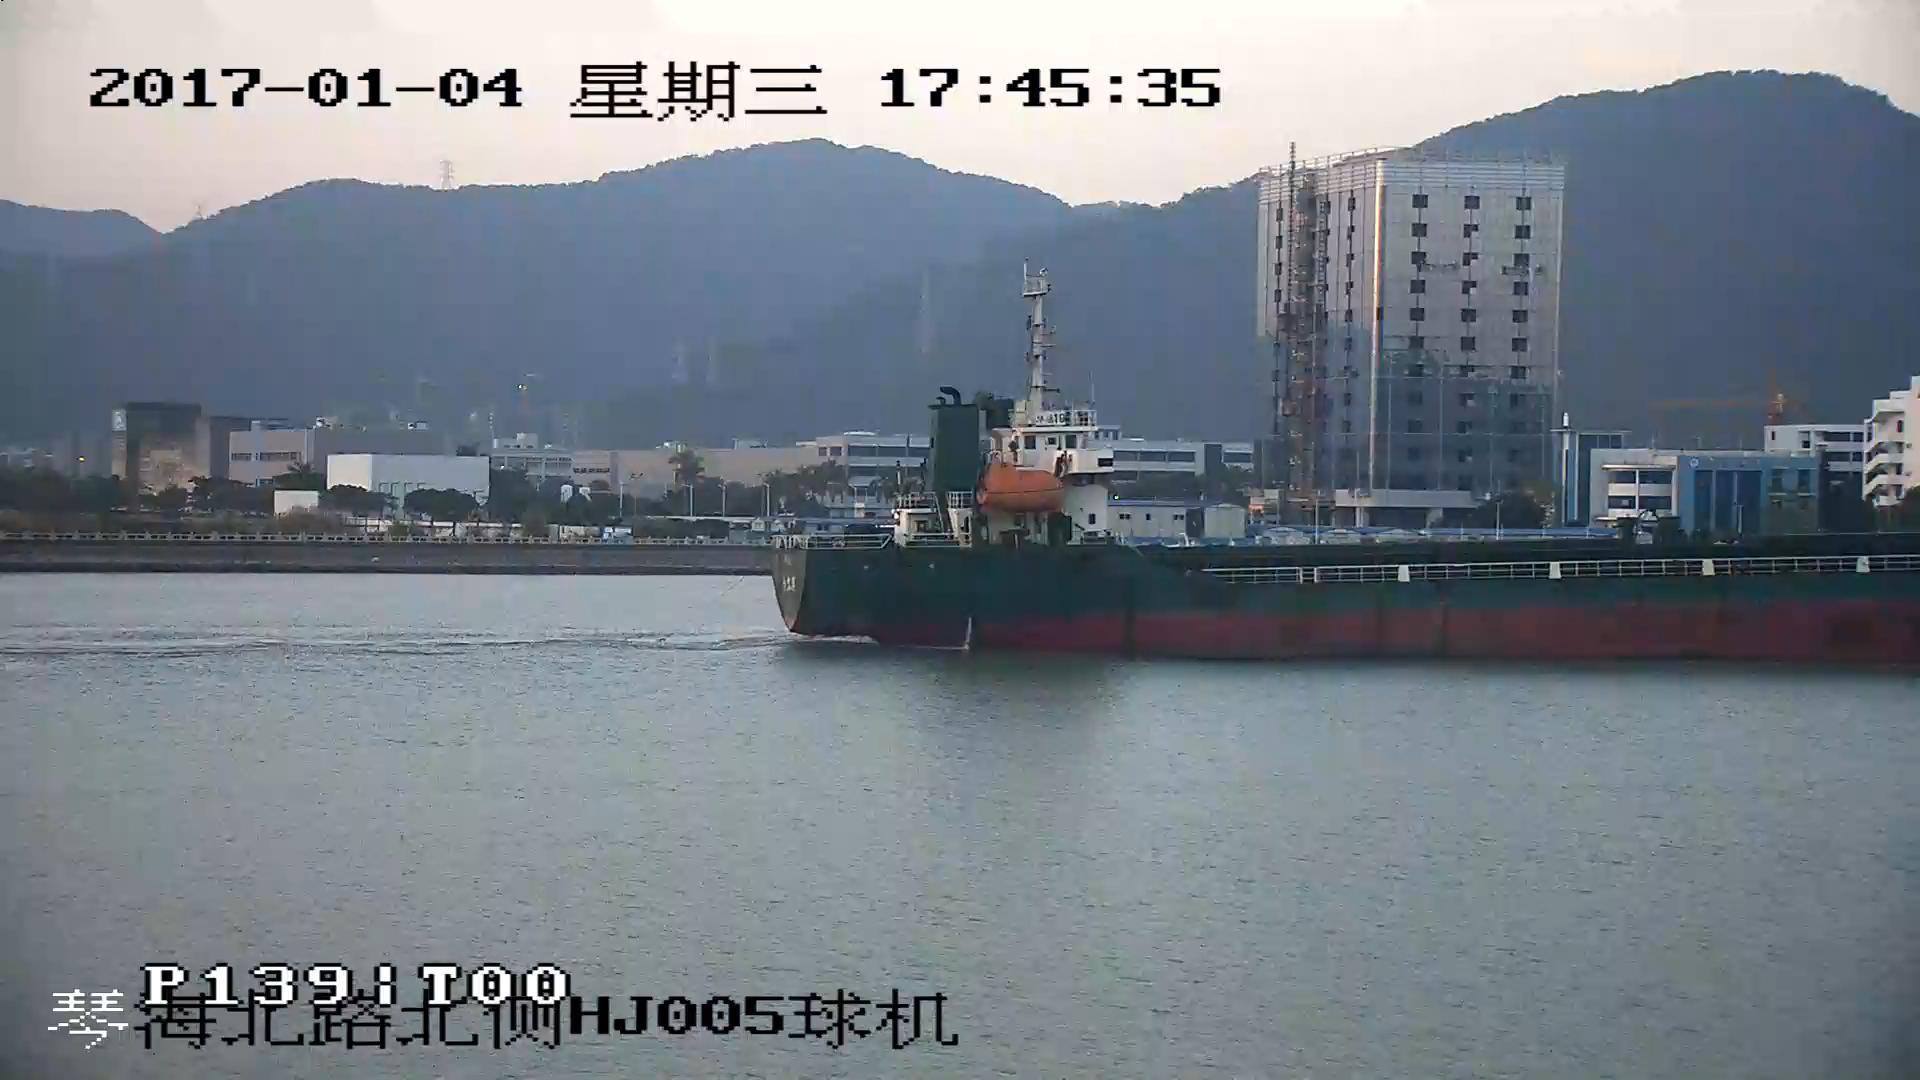Ship: (770, 264, 1920, 663)
